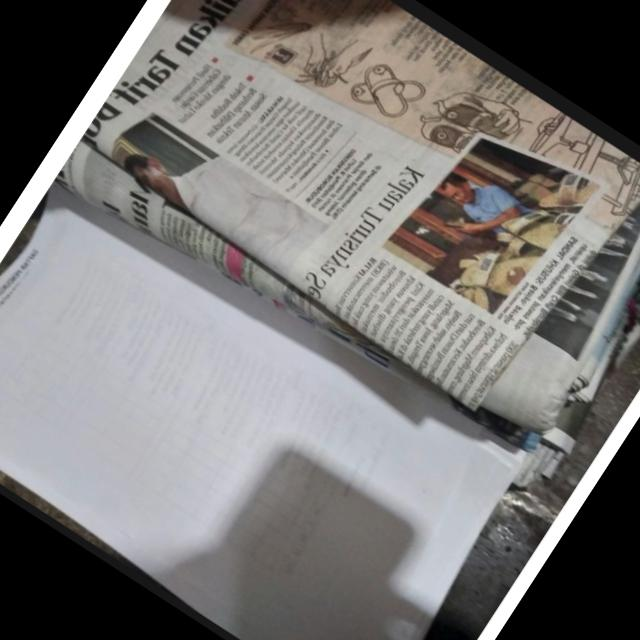Koran: (59, 0, 640, 496)
